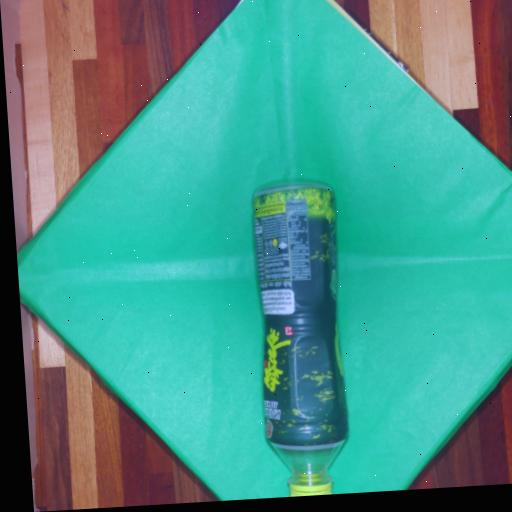bottle: (253, 185, 347, 496)
